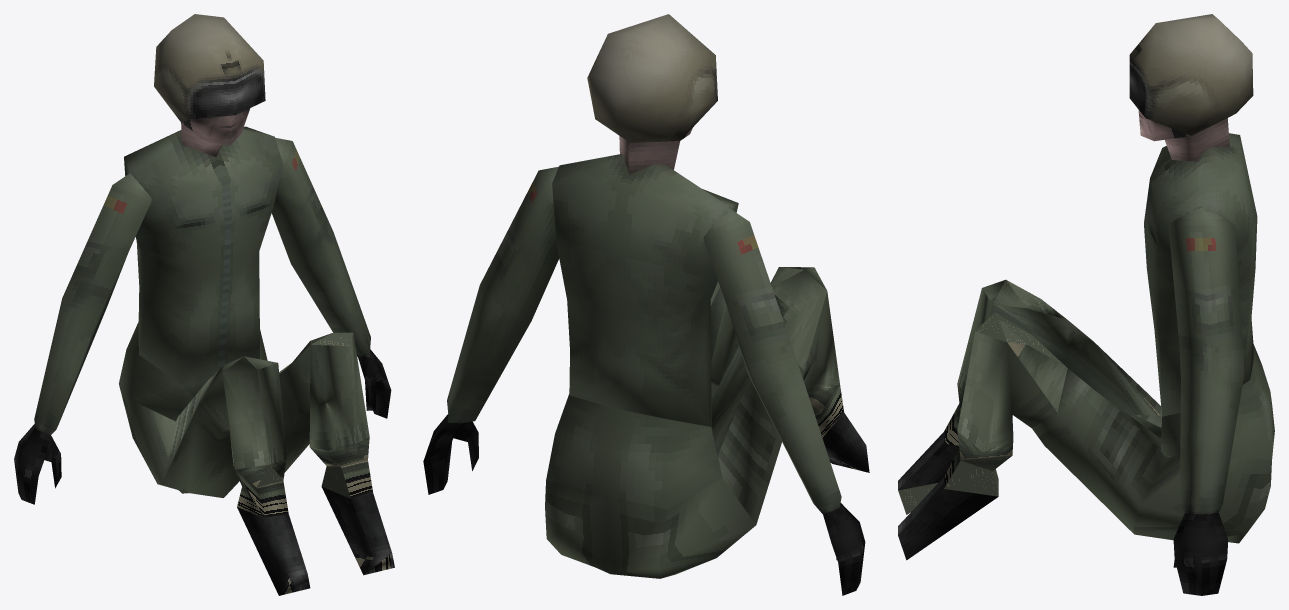
File: PILOT_LEGS.glb
3 views of the same model, side by side, from view 1: azimuth 30°, elevation 25°; view 2: azimuth 150°, elevation 25°; view 3: azimuth 270°, elevation 25° (orthographic). The views are drawn at different scales.
Visible parts, largest first — view 1: Head; view 2: Head; view 3: Head.
Part boxes in pixels (bbox=[...]): Head: bbox=[14, 14, 394, 595]; Head: bbox=[423, 14, 869, 595]; Head: bbox=[898, 14, 1274, 595].
Bounding box in the file's own units: 1.06 × 1.28 × 0.8545.
Materials: 1 (1 with a texture image).
